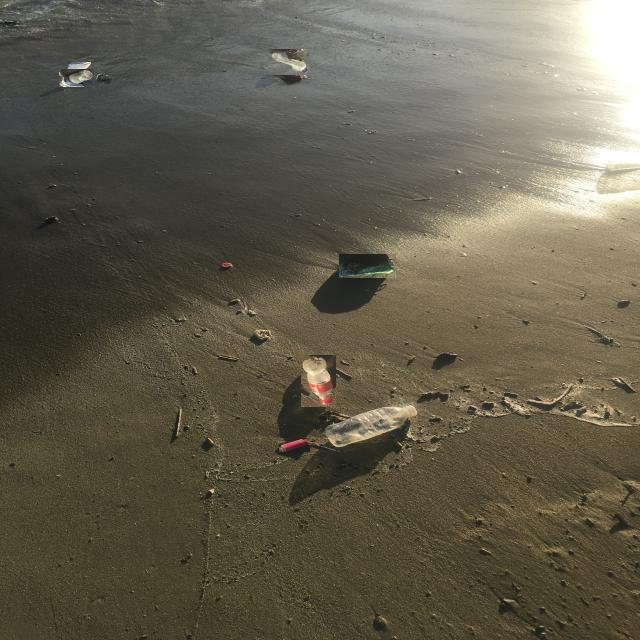Bottle cap: (222, 260, 234, 270)
Can: (339, 254, 396, 278)
Plastic bottle: (322, 403, 419, 450), (301, 355, 336, 407), (268, 49, 310, 75), (59, 69, 94, 87)
Plastic packaging: (277, 68, 309, 84)
Undefined trash: (279, 438, 310, 452), (67, 62, 91, 72), (96, 73, 112, 81)
